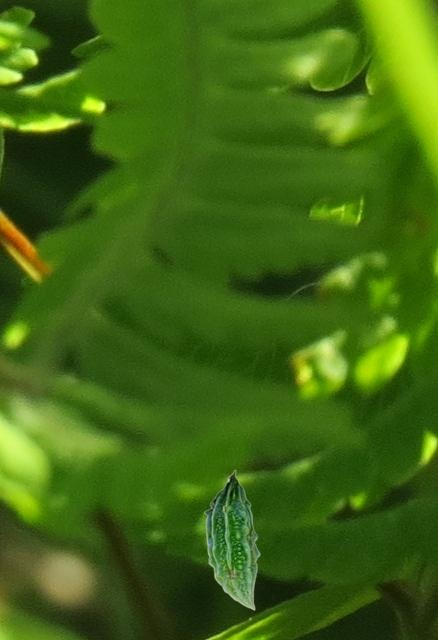ampalaya: (203, 469, 260, 611)
